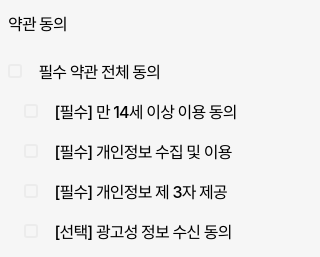
Test: TermsAndConditions 컴포넌트 › 필수 약관 전체 동의 체크 시 모든 약관이 체크되어야 함
Click the text "필수 약관 전체 동의".
click(84, 72)  # box [8,62,160,82]
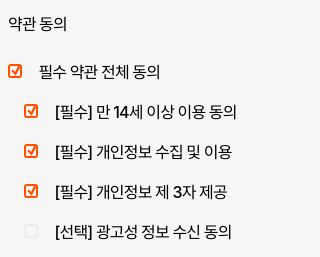
Check: the checkbox with test id "individual-terms-checkbox" showing "[필수] 만 14세 이상 이용 동의" is checked, box [24,104,38,118]
Check: the checkbox with test id "individual-terms-checkbox" showing "[필수] 개인정보 수집 및 이용" is checked, box [24,144,38,158]
Check: the checkbox with test id "individual-terms-checkbox" showing "[필수] 개인정보 제 3자 제공" is checked, box [24,184,38,198]
